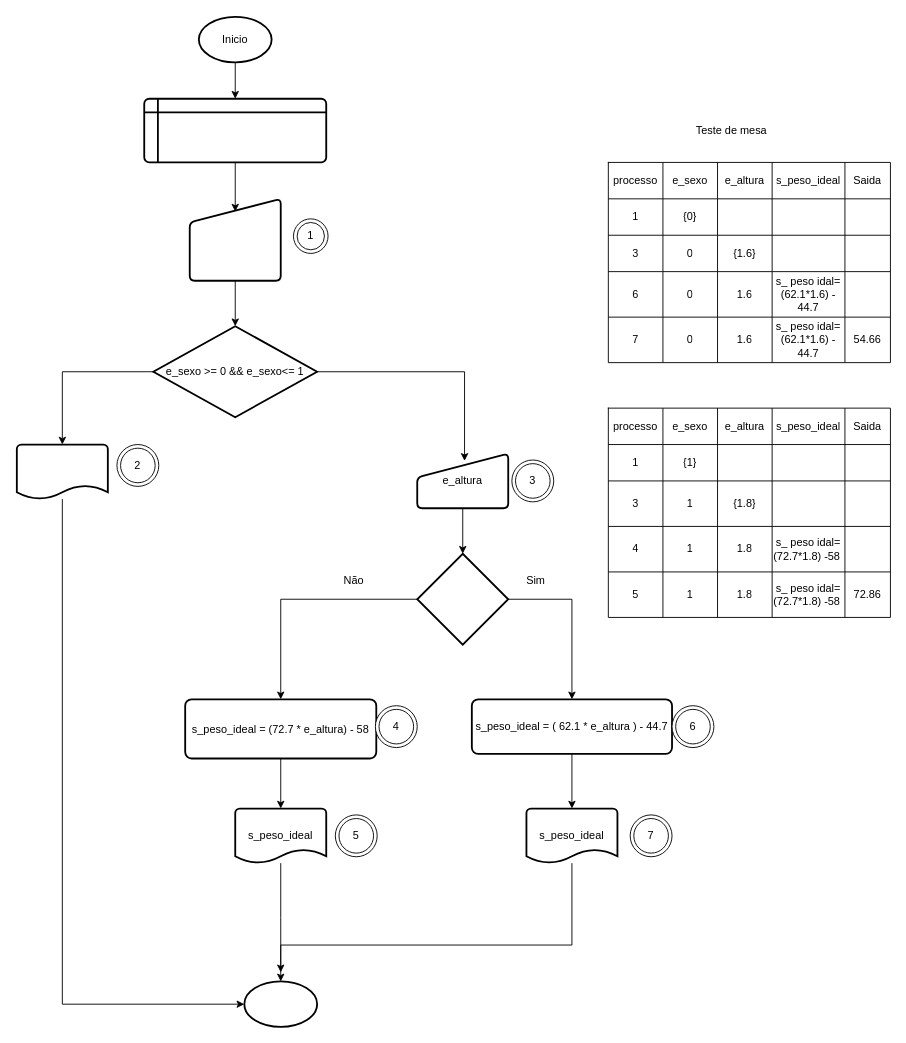
The diagram is 906 pixels wide and 1043 high, and some of its shapes have lost their labels. Here are the shapes that lost their labels. From the top down, the box of each, then its label:
(143, 97, 327, 163): e_sexo, e_altura, s_peso_ideal
(188, 197, 281, 281): e_sexo: 0 = feminino 1 = masculino
(15, 443, 108, 500): Erro
(416, 552, 509, 645): e_sexo = 0
(243, 980, 318, 1027): Fim
